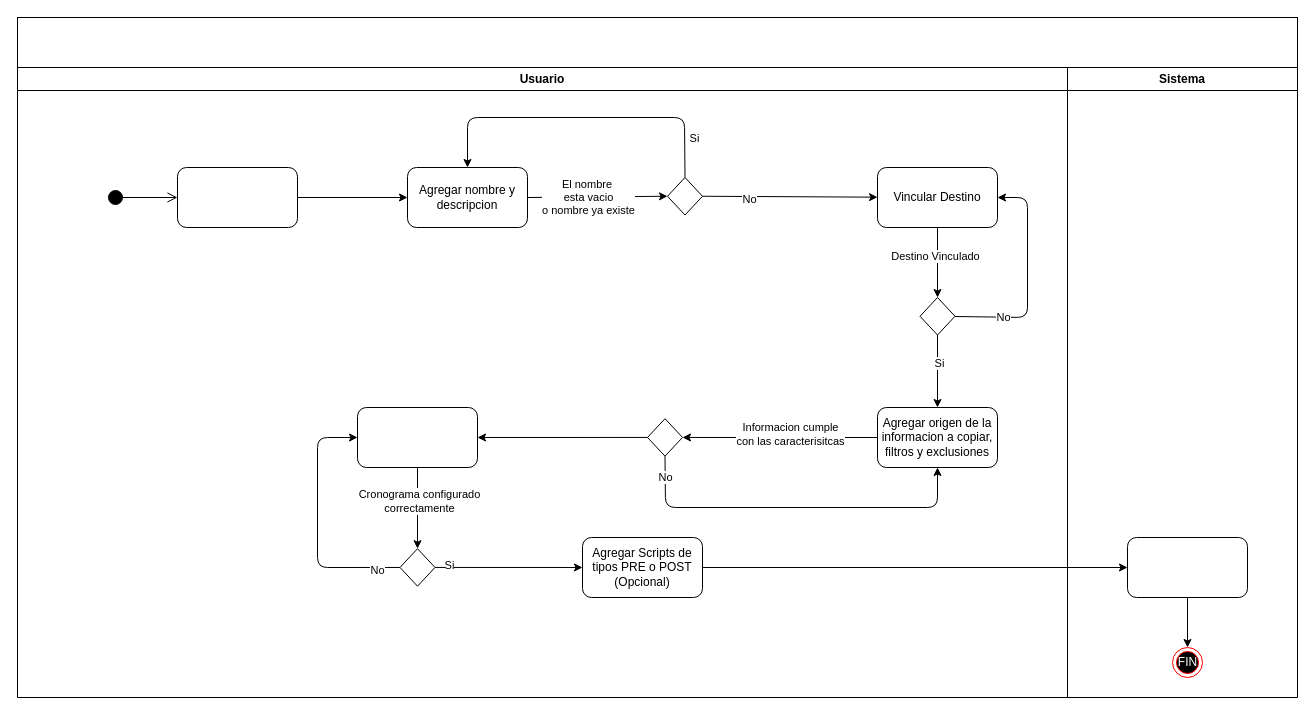
Image size: 1315x715. Some labels were removed from this diagram. Here are the shapes that lost their labels. From the top down, the centre of each, then its label:
the point at 657,42: Diagrama de actividad Crear Trabajo
the point at 237,197: Presionar boton crear trabajo
the point at 417,437: Indicar cronograma de ejecución
the point at 1187,567: Guardar informacion en base de datos
